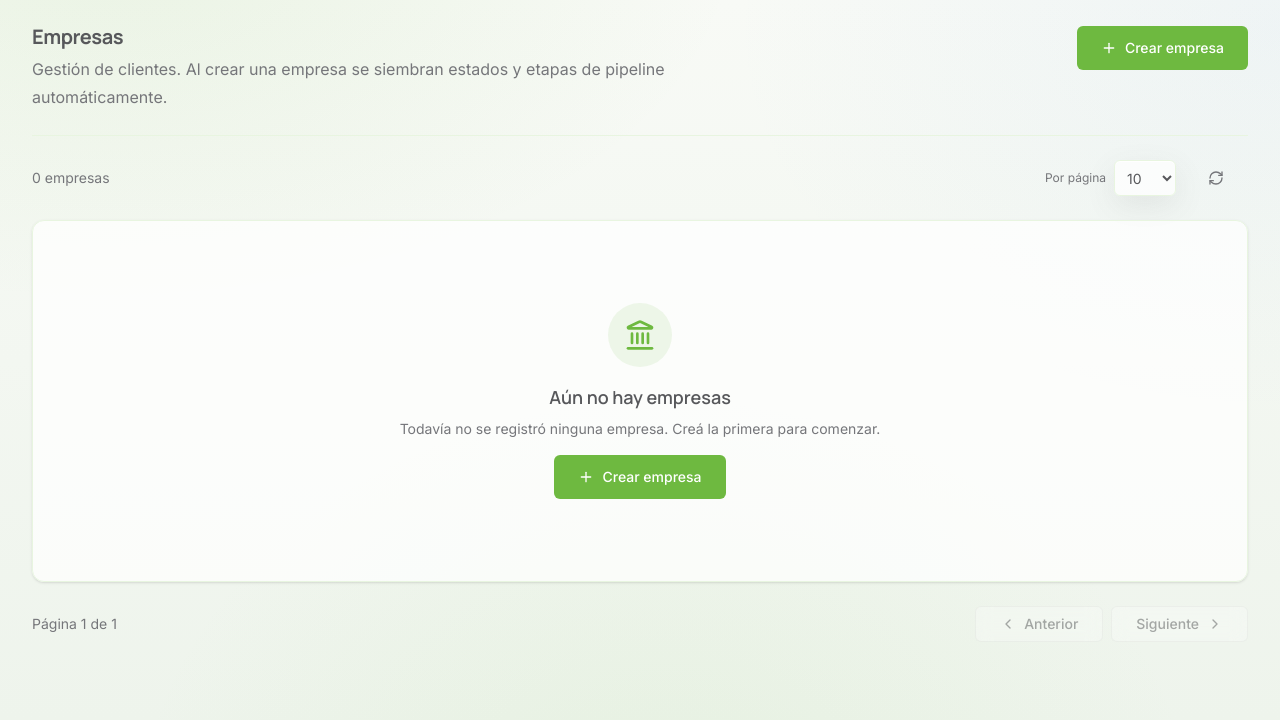
Test case: AdminEmpresasContent › submits create and reloads the list
Check: the heading "Aún no hay empresas" is shown, box [549,385,731,409]
Click the 1st button "Crear empresa". click: (1162, 48)
box: [1077,26,1248,70]
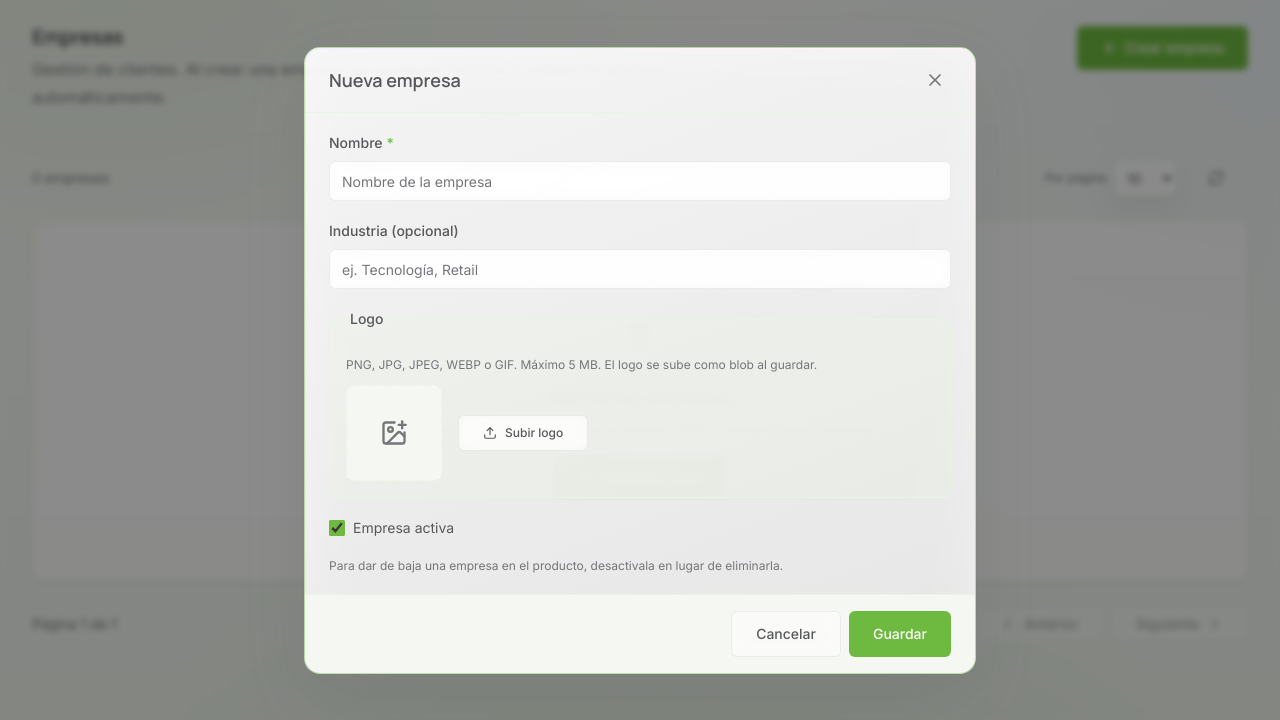
Type "Nueva Co" into the field labelled "Nombre*". click: (640, 180)
box: [329,160,951,200]
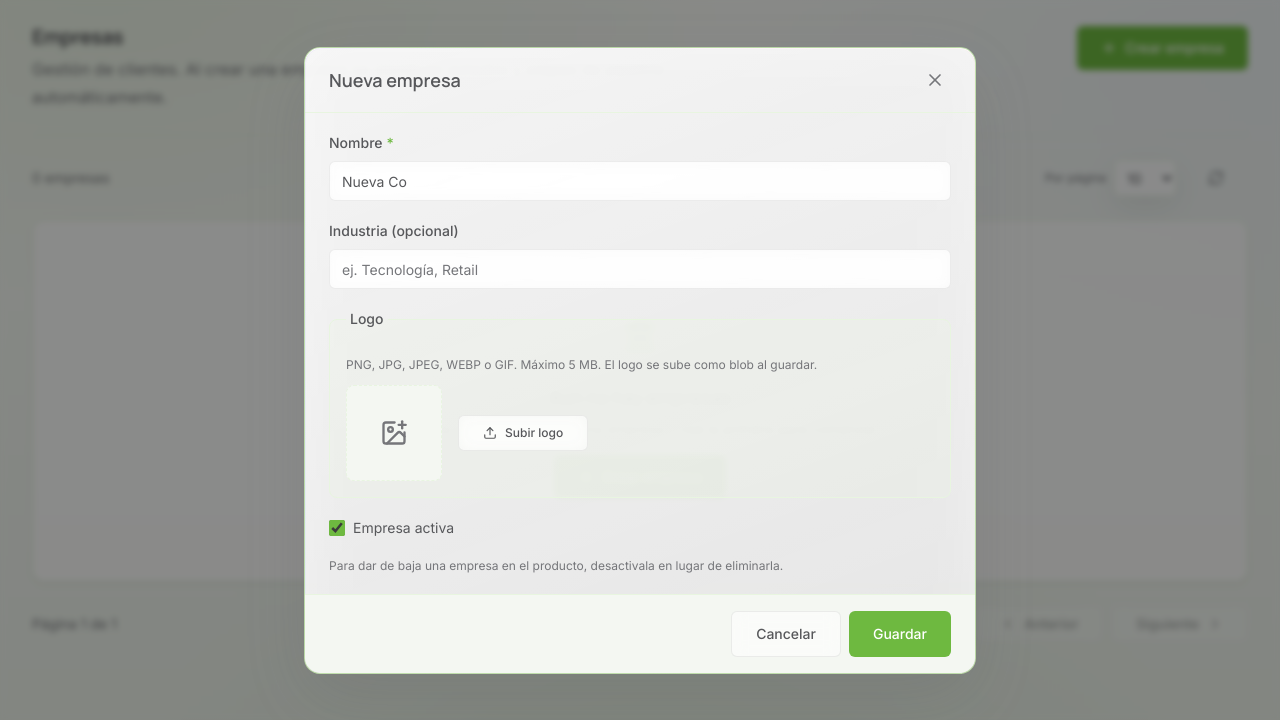
Type "QA" into the field labelled "Industria (opcional)". click: (640, 268)
box: [329,248,951,288]
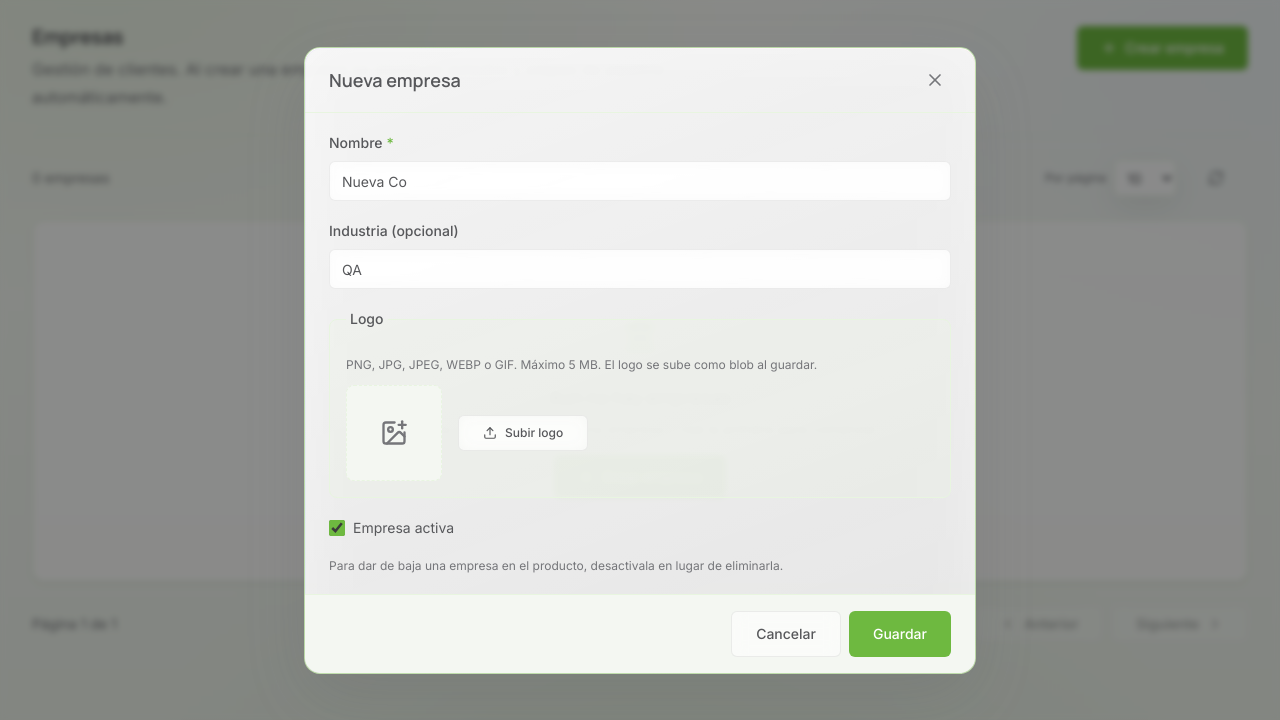
Click the button "Guardar". click: (900, 634)
box: [849,610,951,656]
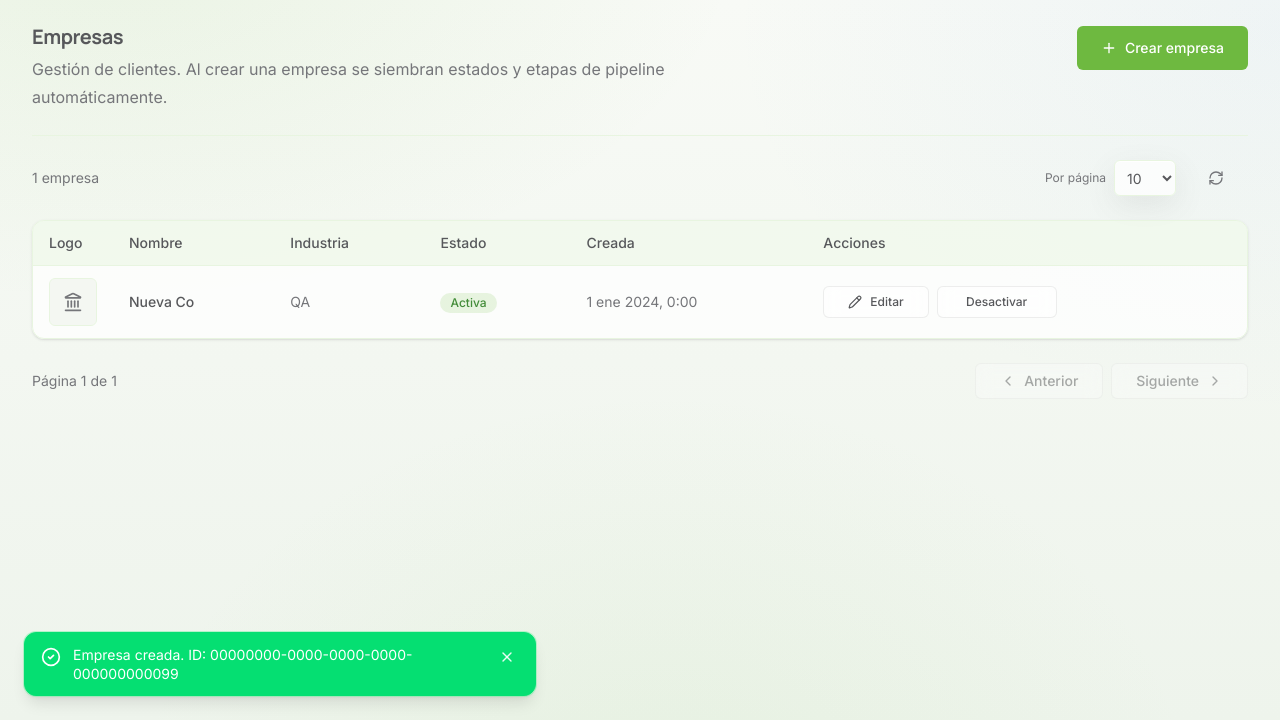
Check: the text "Nueva Co" is shown, box [113,266,274,338]
